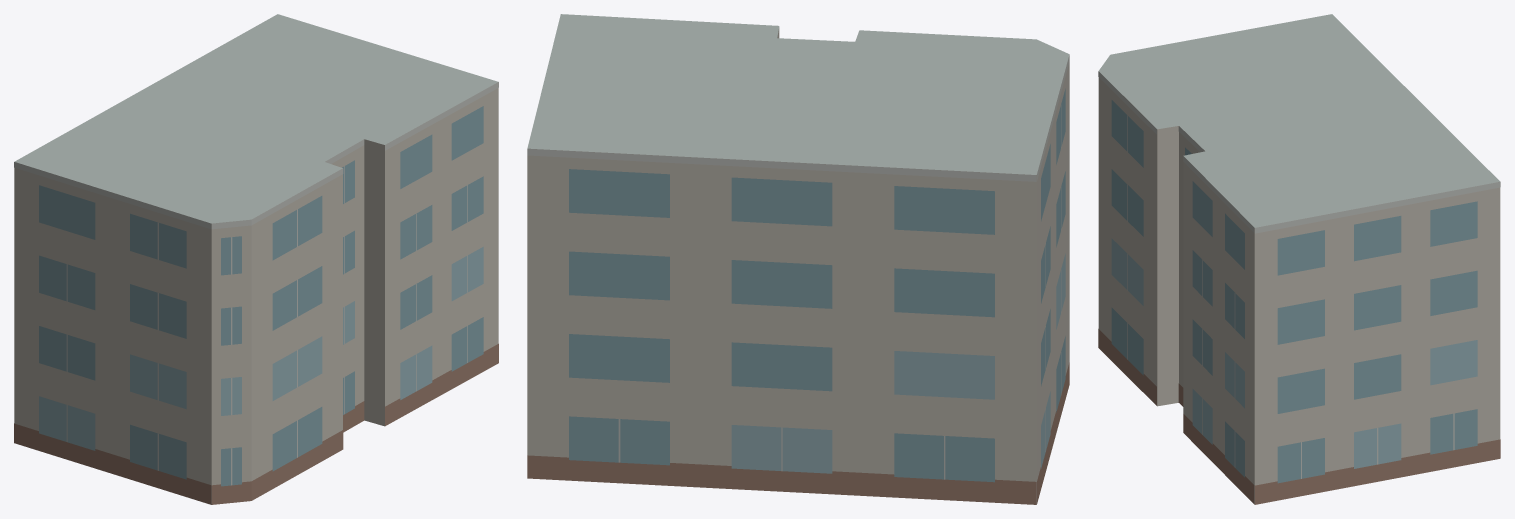
The model's file is survey-upis-32762622.glb.
3 renders of one model, left to right at view 1: azimuth 30°, elevation 25°; view 2: azimuth 150°, elevation 25°; view 3: azimuth 270°, elevation 25°, orthographic. The views are drawn at different scales.
Visible parts, largest first — view 1: survey-upis-32762622.tmp; view 2: survey-upis-32762622.tmp; view 3: survey-upis-32762622.tmp.
Part boxes in pixels (box(x1,y1,x2,y2)): survey-upis-32762622.tmp: box(14, 14, 498, 504); survey-upis-32762622.tmp: box(527, 14, 1069, 504); survey-upis-32762622.tmp: box(1098, 14, 1500, 504).
Size of the model in its own units: 19.39 by 11.7 by 15.4.
